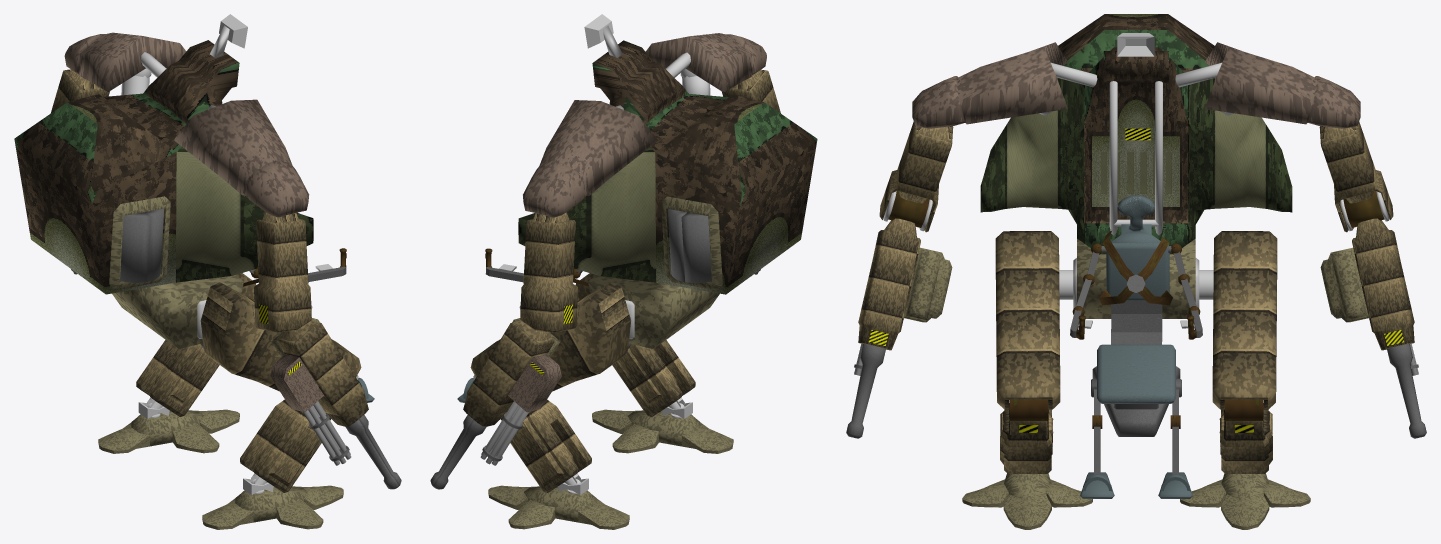
File: PreviewRobotExoSkelet.FBX
The picture shows the model from 3 angles, left to right: view 1: azimuth 30°, elevation 25°; view 2: azimuth 150°, elevation 25°; view 3: azimuth 270°, elevation 25°; orthographic projection. The views are drawn at different scales.
Parts seen in each view (by area): view 1: mesh_mech; view 2: mesh_mech; view 3: mesh_mech.
Boxes of the visible parts, bbox=[...] form: mesh_mech: bbox=[14, 14, 401, 529]; mesh_mech: bbox=[430, 14, 817, 529]; mesh_mech: bbox=[846, 14, 1426, 529].
Size of the model in its own units: 90.63 by 147 by 130.
